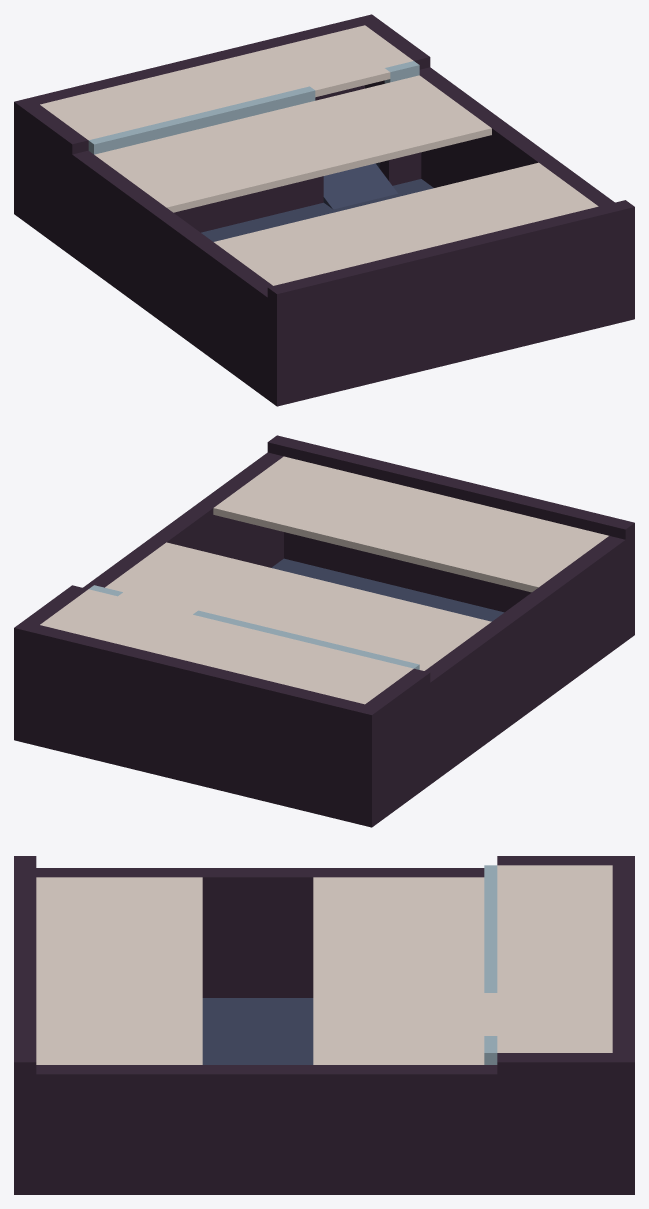
The model's file is ParaDraw Example Show Room.fbx.
3 views of the same model, one above another, from view 1: azimuth 30°, elevation 25°; view 2: azimuth 150°, elevation 25°; view 3: azimuth 270°, elevation 25° (orthographic). The views are drawn at different scales.
Visible parts, largest first — view 1: Wall 002.001, Wall 001.001, Roof 002.001, Roof 001.001, Roof 003.001, Wall 001.002, Wall 006.001, Floor 001, Wall 005.001, Wall 004.001, Wall 003.001; view 2: Wall 006.001, Wall 001.001, Roof 001.001, Roof 002.001, Roof 003.001, Wall 002.001, Wall 001.002, Floor 001, Wall 005.001; view 3: Wall 001.002, Roof 002.001, Roof 001.001, Roof 003.001, Wall 001.001, Wall 006.001, Wall 002.001, Floor 001, Wall 005.001.
Part boxes in pixels (left/top/right/bottom): Wall 002.001: left=267, top=200, right=634, bottom=406; Wall 001.001: left=23, top=104, right=272, bottom=399; Roof 002.001: left=94, top=75, right=491, bottom=212; Roof 001.001: left=214, top=162, right=598, bottom=285; Roof 003.001: left=40, top=25, right=413, bottom=140; Wall 001.002: left=365, top=21, right=614, bottom=206; Wall 006.001: left=14, top=14, right=380, bottom=220; Floor 001: left=201, top=162, right=433, bottom=241; Wall 005.001: left=88, top=61, right=419, bottom=154; Wall 004.001: left=174, top=176, right=323, bottom=232; Wall 003.001: left=379, top=152, right=421, bottom=185; Wall 006.001: left=14, top=621, right=381, bottom=827; Wall 001.001: left=365, top=536, right=625, bottom=820; Roof 001.001: left=213, top=456, right=608, bottom=592; Roof 002.001: left=105, top=542, right=491, bottom=670; Roof 003.001: left=40, top=589, right=413, bottom=704; Wall 002.001: left=267, top=435, right=634, bottom=641; Wall 001.002: left=24, top=452, right=283, bottom=624; Floor 001: left=271, top=558, right=504, bottom=621; Wall 005.001: left=89, top=585, right=419, bottom=669; Wall 001.002: left=36, top=1053, right=612, bottom=1194; Roof 002.001: left=313, top=877, right=484, bottom=1064; Roof 001.001: left=36, top=877, right=202, bottom=1064; Roof 003.001: left=484, top=865, right=612, bottom=1052; Wall 001.001: left=36, top=856, right=612, bottom=997; Wall 006.001: left=612, top=856, right=634, bottom=1194; Wall 002.001: left=14, top=856, right=36, bottom=1194; Floor 001: left=202, top=998, right=313, bottom=1064; Wall 005.001: left=484, top=865, right=497, bottom=1064.
Size of the model in its own units: 11 by 3.3 by 14.
